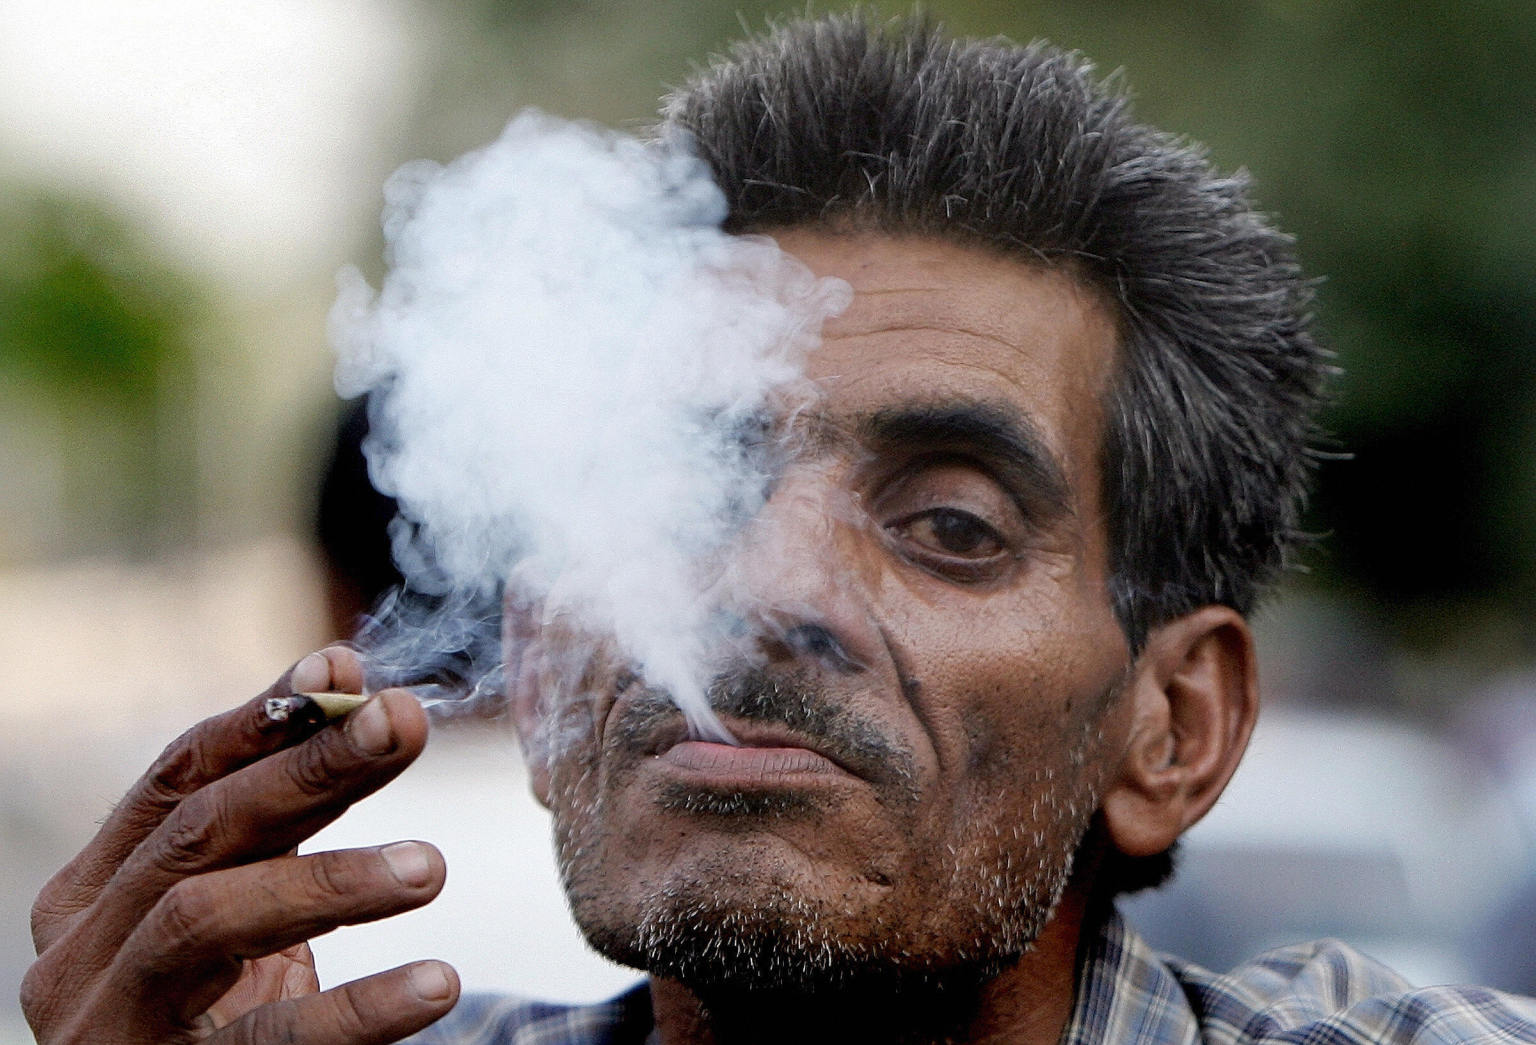cigarette: (254, 680, 407, 739)
